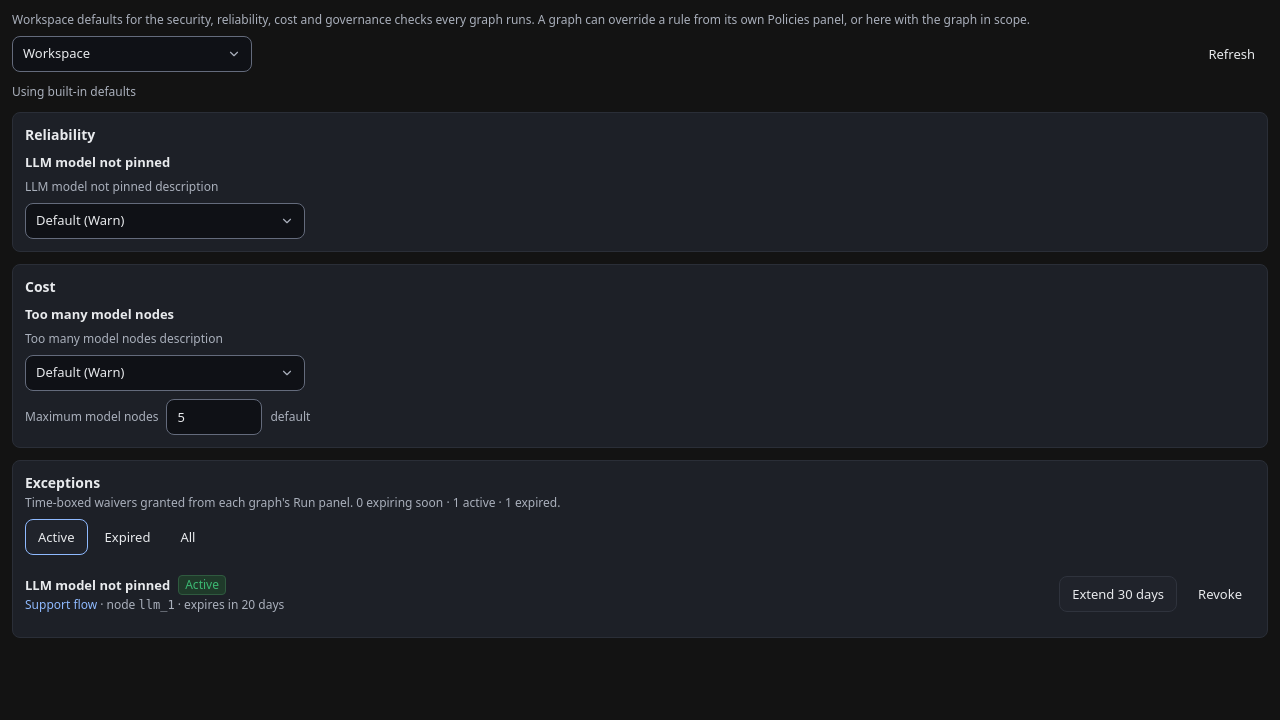
it: WorkspacePoliciesPanel › filters exceptions and names their graph
Expected: the number of list items is 1, x1=25 y1=563 x2=1255 y2=625
Expected: the text "0 expiring soon · 1 active · 1 expired" is shown, x1=25 y1=494 x2=560 y2=511
Click the button "Expired": click(127, 537) x1=92 y1=519 x2=163 y2=555
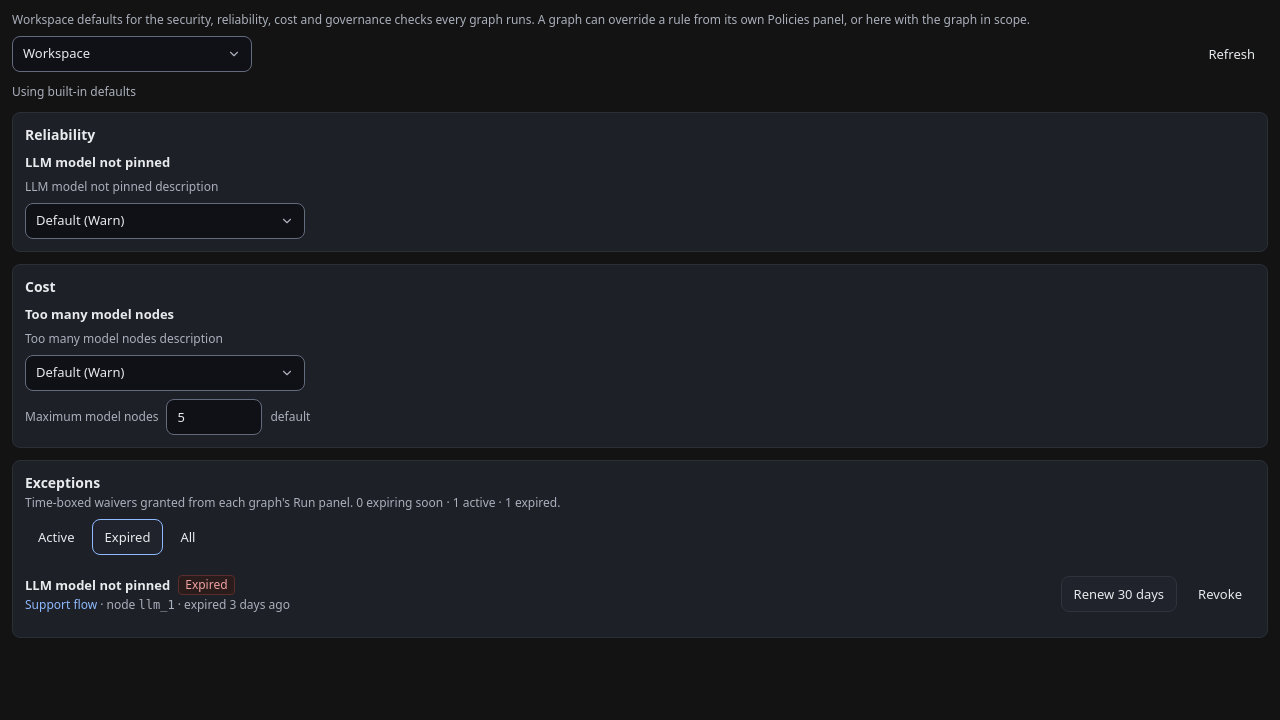
Result: the text "Support flow · node llm_1 · expired 3 days ago" is shown at x1=25 y1=596 x2=290 y2=613
Result: the button with aria-label "Extend" reads "Renew 30 days" at x1=1061 y1=576 x2=1177 y2=612
Click the button "All": click(188, 537) x1=167 y1=519 x2=208 y2=555
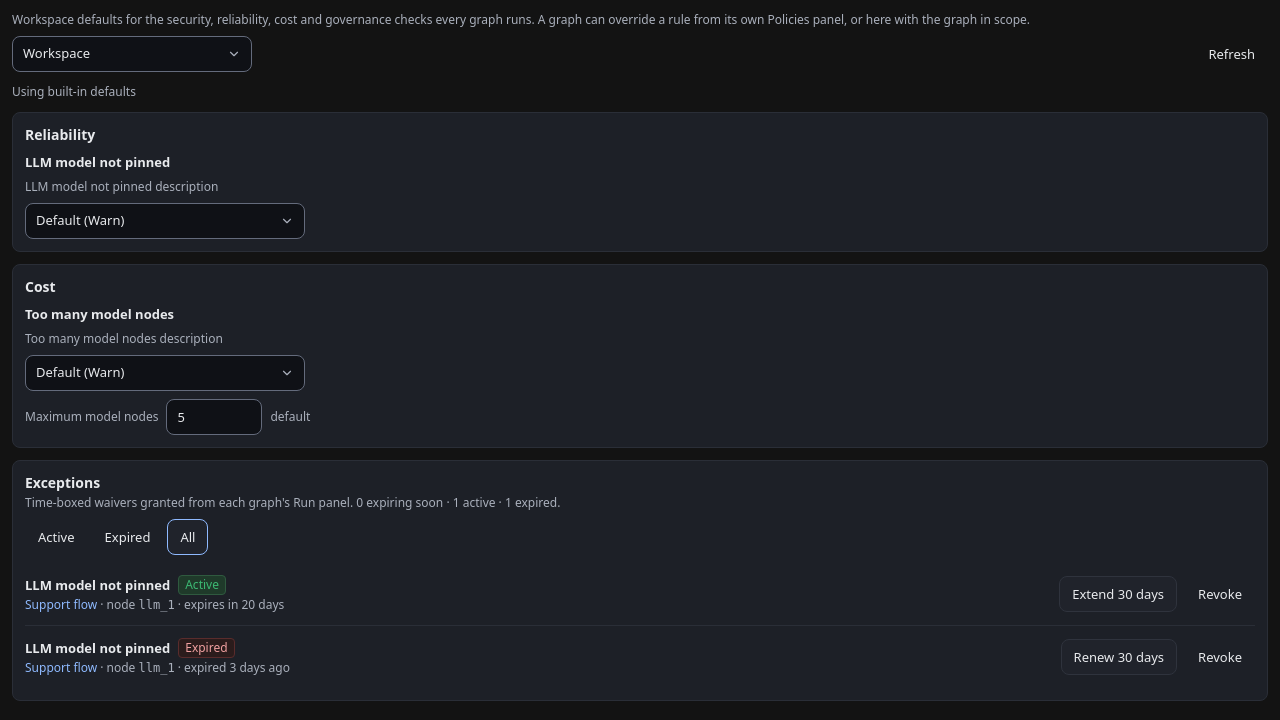
Result: the number of list items is 2 at x1=25 y1=563 x2=1255 y2=625; x1=25 y1=625 x2=1255 y2=688
